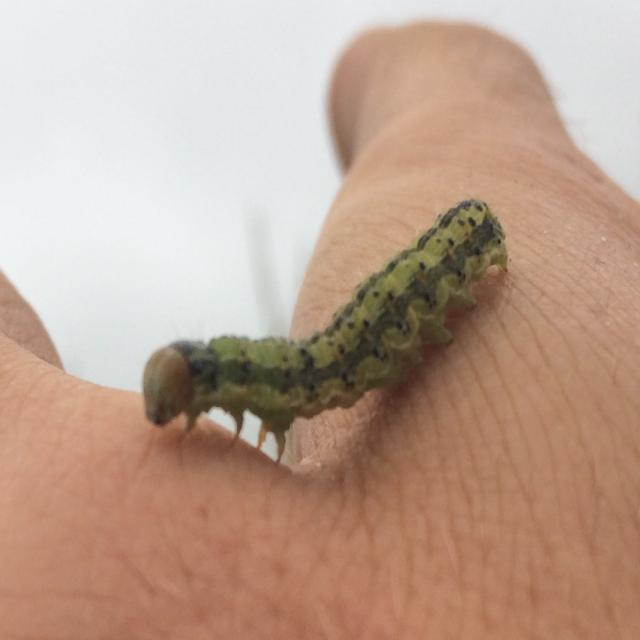Corn-earworm: (135, 195, 513, 452)
